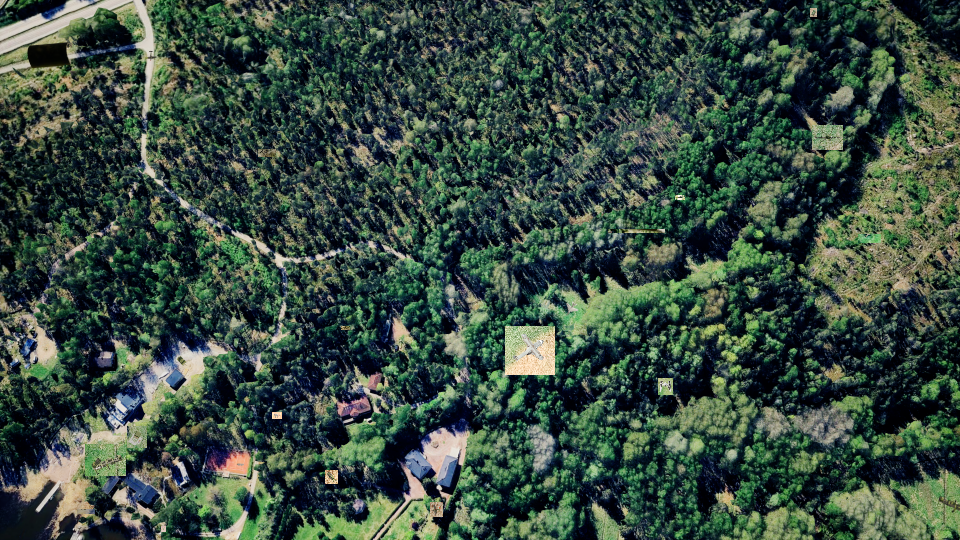condor: (505, 326, 555, 375)
hangar: (608, 229, 665, 233)
helicopter: (812, 125, 843, 150)
jammer: (810, 8, 817, 17)
jet_plane: (858, 234, 881, 243)
large_launcher: (85, 444, 126, 476)
large_tower: (258, 149, 276, 157)
medium_launcher: (341, 326, 350, 330)
medium_plane: (675, 195, 685, 200)
mine_roller: (325, 470, 338, 484)
small_launcher: (161, 526, 166, 532)
small_plane: (430, 502, 443, 517)
small_tower: (127, 426, 147, 448)
spacecraft: (658, 378, 673, 395)
ta-ta: (272, 412, 282, 419)
tank: (77, 509, 95, 514)
